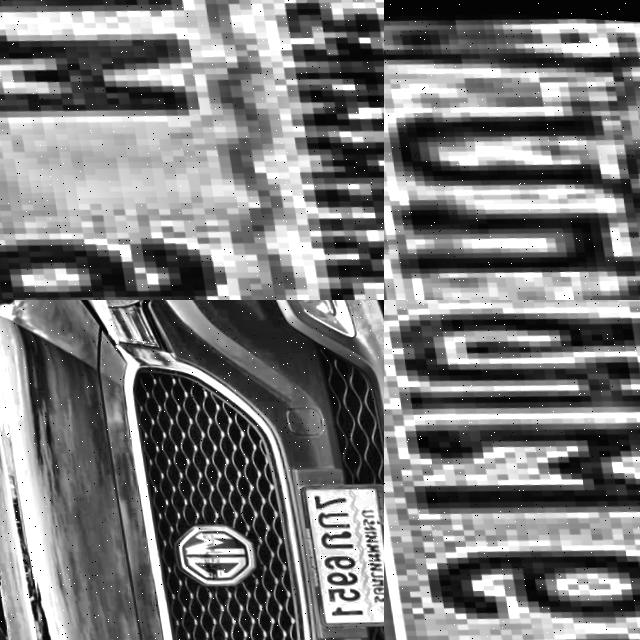license-plate: (0, 0, 384, 300), (384, 300, 640, 640), (384, 0, 640, 300), (289, 470, 384, 625)
